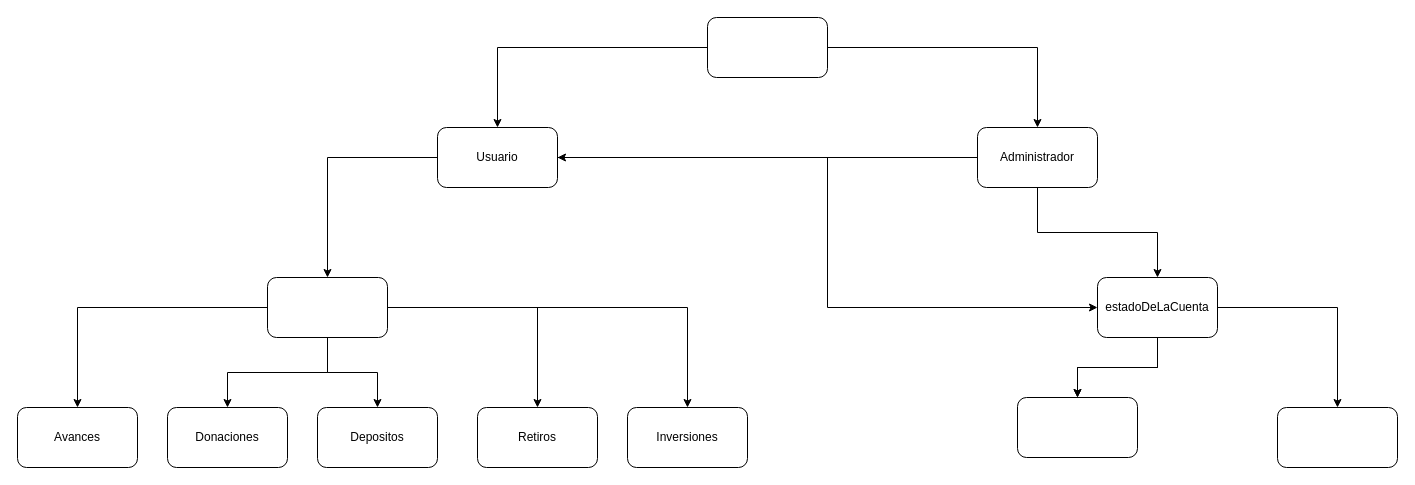
Image size: 1415x485. Some labels were removed from this diagram. The shapes that lost their labels are listed below. From the top down, each one's centre as x and y in pixels, then its label:
At pixel 767 47: "BSBank".
At pixel 327 307: "Cuenta Bancaria".
At pixel 1077 427: "Saldo".
At pixel 1337 437: "Hisotrial de movimientos".
